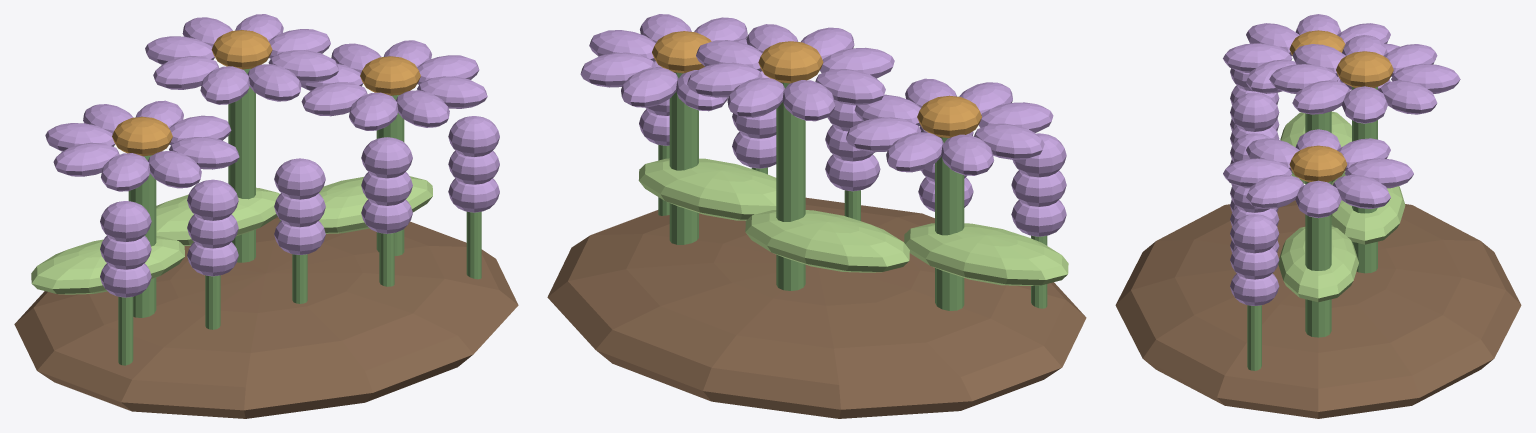
The model's file is Lavender2.fbx.
3 views of the same model, side by side, from view 1: azimuth 30°, elevation 25°; view 2: azimuth 150°, elevation 25°; view 3: azimuth 270°, elevation 25° (orthographic). The views are drawn at different scales.
Parts seen in each view (by area): view 1: Worksite soil bed.011, Wide leaf.009, Flower stalk.010, Wide leaf.010, Wide leaf.011, Pollen disk.010, Pollen disk.009, Pollen disk.011, Tiny violet bloom.020, Tiny violet bloom.023, Tiny violet bloom.017, Tiny violet bloom.029 (+42 smaller); view 2: Worksite soil bed.011, Wide leaf.010, Wide leaf.009, Wide leaf.011, Flower stalk.010, Flower stalk.009, Flower stalk.011, Pollen disk.010, Pollen disk.009, Colored petal.076, Colored petal.084, Colored petal.090 (+31 smaller); view 3: Worksite soil bed.011, Wide leaf.011, Flower stalk.011, Wide leaf.010, Pollen disk.011, Pollen disk.010, Tiny violet bloom.020, Tiny violet bloom.029, Colored petal.081, Colored petal.087, Colored petal.089, Colored petal.095 (+27 smaller).
Part boxes in pixels (left/top/right/bottom): Worksite soil bed.011: left=14, top=217, right=518, bottom=418; Wide leaf.009: left=31, top=236, right=184, bottom=294; Flower stalk.010: left=228, top=68, right=255, bottom=262; Wide leaf.010: left=156, top=187, right=279, bottom=245; Wide leaf.011: left=279, top=176, right=432, bottom=233; Pollen disk.010: left=211, top=30, right=272, bottom=69; Pollen disk.009: left=112, top=116, right=172, bottom=156; Pollen disk.011: left=360, top=56, right=420, bottom=95; Tiny violet bloom.020: left=187, top=179, right=238, bottom=220; Tiny violet bloom.023: left=274, top=158, right=325, bottom=199; Tiny violet bloom.017: left=100, top=201, right=151, bottom=241; Tiny violet bloom.029: left=448, top=116, right=499, bottom=157; Worksite soil bed.011: left=547, top=197, right=1086, bottom=418; Wide leaf.010: left=745, top=210, right=909, bottom=272; Wide leaf.009: left=904, top=223, right=1068, bottom=285; Wide leaf.011: left=638, top=158, right=776, bottom=220; Flower stalk.010: left=776, top=82, right=805, bottom=290; Flower stalk.009: left=935, top=137, right=964, bottom=310; Flower stalk.011: left=669, top=72, right=698, bottom=244; Pollen disk.010: left=758, top=41, right=823, bottom=83; Pollen disk.009: left=917, top=95, right=981, bottom=137; Colored petal.076: left=974, top=123, right=1044, bottom=159; Colored petal.084: left=815, top=69, right=885, bottom=105; Colored petal.090: left=621, top=67, right=678, bottom=107; Worksite soil bed.011: left=1115, top=200, right=1521, bottom=418; Wide leaf.011: left=1278, top=227, right=1358, bottom=302; Flower stalk.011: left=1305, top=181, right=1331, bottom=337; Wide leaf.010: left=1331, top=171, right=1405, bottom=244; Pollen disk.011: left=1289, top=145, right=1347, bottom=182; Pollen disk.010: left=1336, top=51, right=1393, bottom=87; Tiny violet bloom.020: left=1230, top=92, right=1279, bottom=131; Tiny violet bloom.029: left=1230, top=214, right=1279, bottom=253; Colored petal.081: left=1379, top=80, right=1437, bottom=114; Colored petal.087: left=1292, top=80, right=1350, bottom=114; Colored petal.089: left=1333, top=174, right=1390, bottom=208; Colored petal.095: left=1246, top=174, right=1303, bottom=208.
Bounding box in the file's own units: 176 × 110 × 140.
